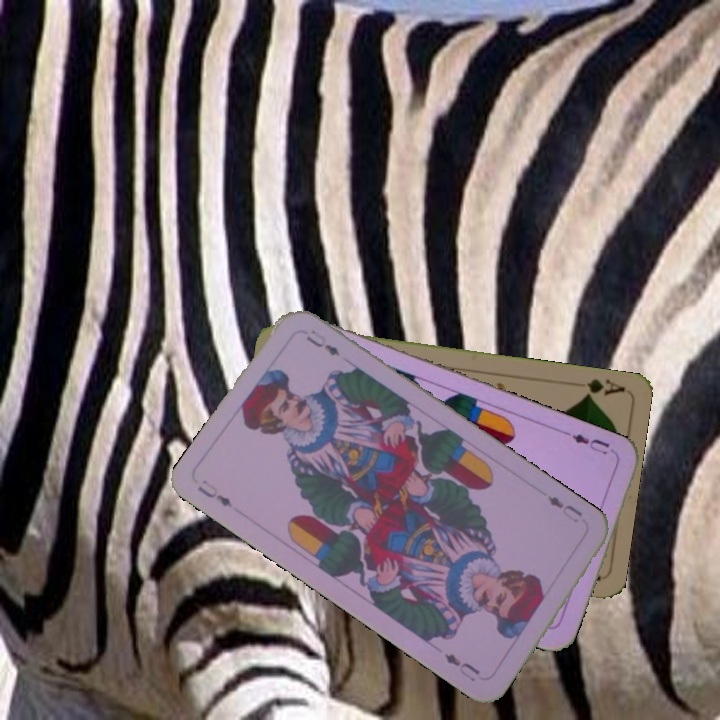EU: (563, 429, 620, 458), (543, 491, 585, 526), (193, 475, 235, 510)
GA: (580, 374, 627, 401)
